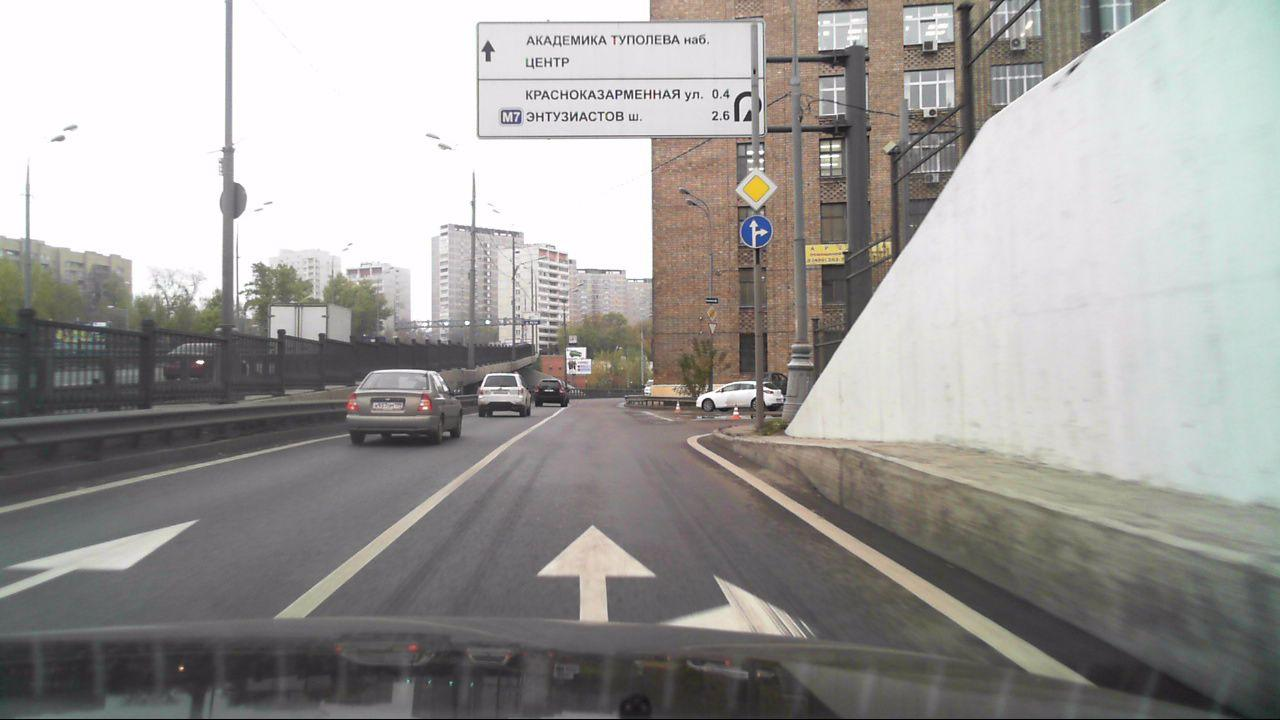2_1: (735, 168, 777, 210)
4_1_4: (741, 216, 773, 247)
6_9_1: (471, 21, 766, 141)
